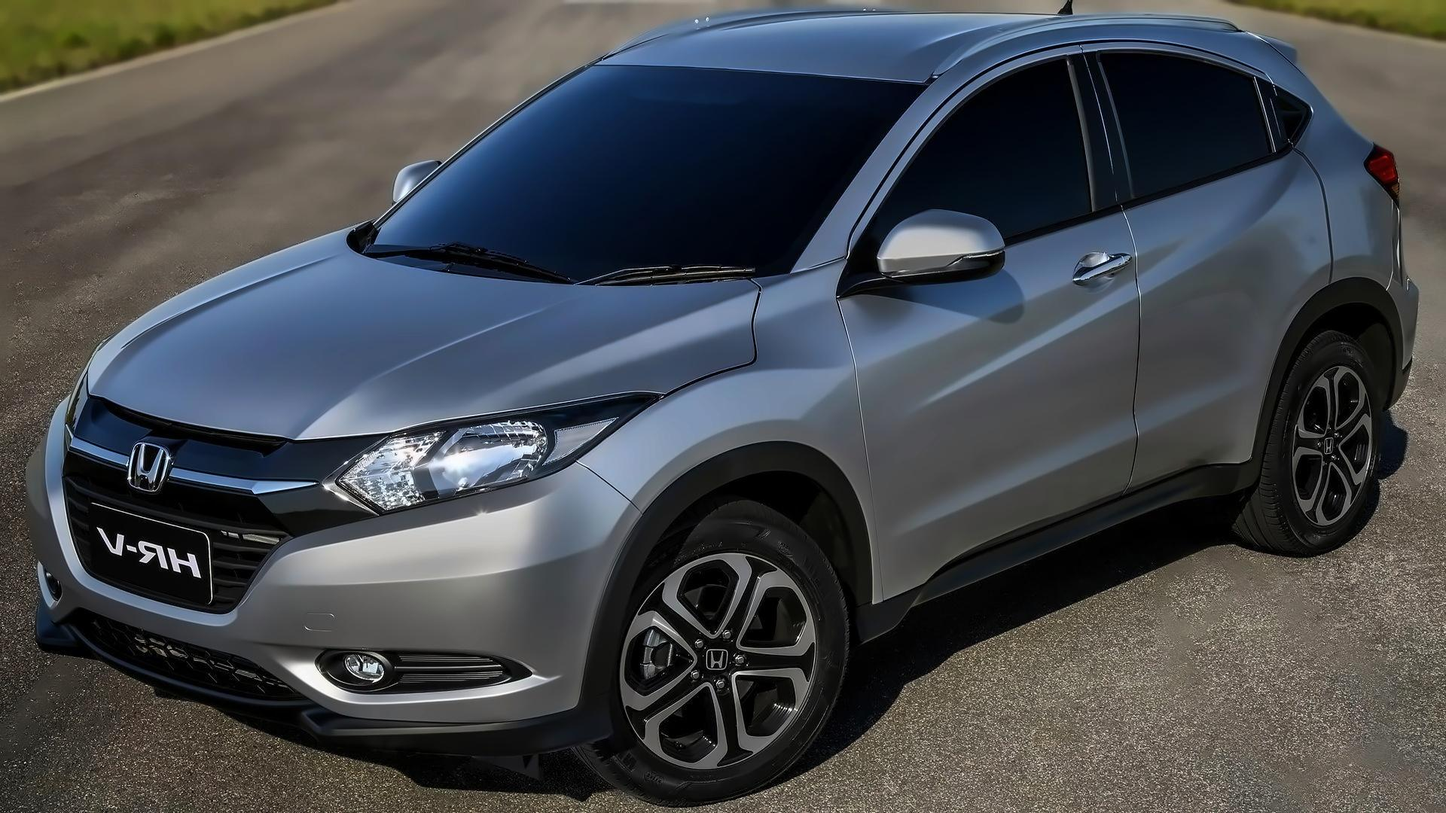Car hood: (76, 213, 765, 444)
Fender - -F-L-: (575, 250, 881, 608)
Fender - -R-L-: (1293, 104, 1403, 309)
Front bumper: (27, 456, 645, 752)
Headlight - -L-: (317, 382, 667, 523)
Passenger-s door - -F-L-: (849, 38, 1141, 610)
Passenger-s door - -R-L-: (1100, 36, 1337, 528)
Rear bumper: (1379, 197, 1433, 416)
Rear light - -L-: (1352, 117, 1410, 207)
Side bumper - -L-: (836, 450, 1265, 655)
Side mirror - -L-: (852, 204, 1015, 297)
Side mirror - -R-: (381, 149, 464, 221)
